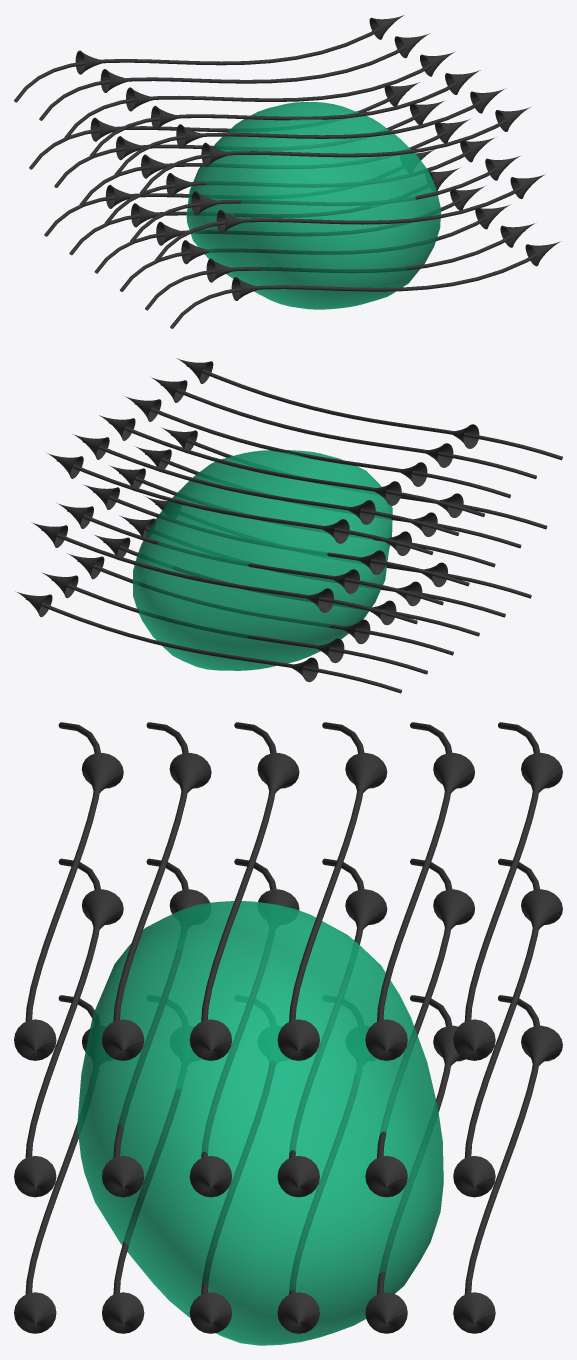
File: 15_Closed surface in electric field.glb
The picture shows the model from 3 angles, top to bottom: view 1: azimuth 30°, elevation 25°; view 2: azimuth 150°, elevation 25°; view 3: azimuth 270°, elevation 25°; orthographic projection. The views are drawn at different scales.
Parts seen in each view (by area): view 1: Sphere, BézierCurve.001; view 2: Sphere, BézierCurve.001; view 3: Sphere, BézierCurve.001.
Part boxes in pixels (x1,y1,x2,y2): Sphere: (186, 102, 440, 309); BézierCurve.001: (14, 15, 560, 328); Sphere: (133, 450, 392, 670); BézierCurve.001: (15, 358, 562, 693); Sphere: (77, 901, 443, 1345); BézierCurve.001: (14, 722, 562, 1333).
Size of the model in its own units: 4.46 by 2.4 by 2.93.
